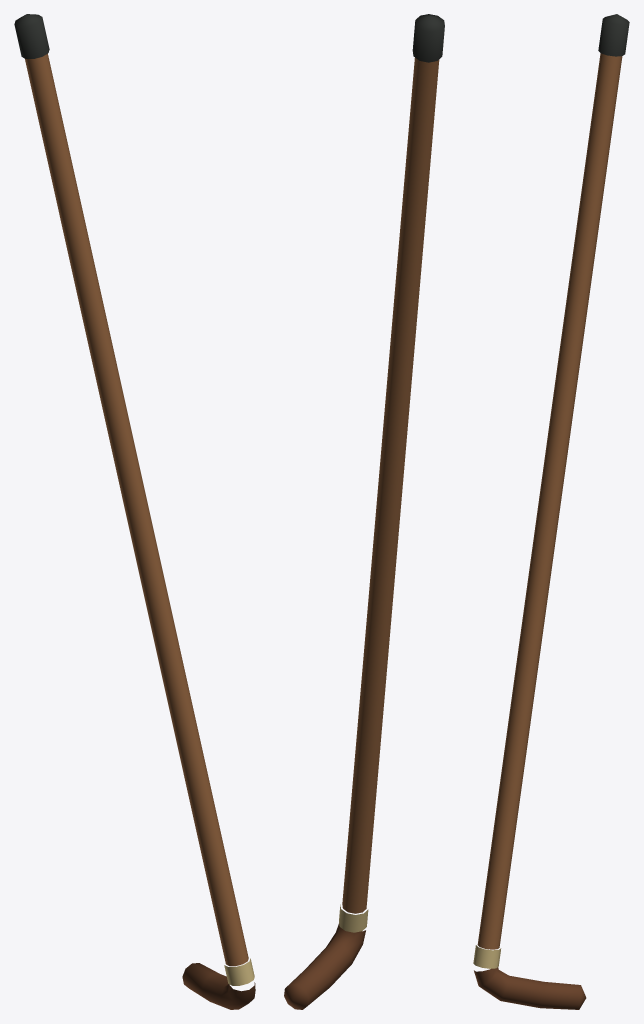
The model's file is old-cane-magrao.glb.
3 renders of one model, left to right at view 1: azimuth 30°, elevation 25°; view 2: azimuth 150°, elevation 25°; view 3: azimuth 270°, elevation 25°, orthographic. The views are drawn at different scales.
Parts seen in each view (by area): view 1: Acc_Male_Hand_Cane; view 2: Acc_Male_Hand_Cane; view 3: Acc_Male_Hand_Cane.
Part boxes in pixels (box(x1,y1,x2,y2)): Acc_Male_Hand_Cane: box(14, 14, 255, 1009); Acc_Male_Hand_Cane: box(284, 14, 444, 1009); Acc_Male_Hand_Cane: box(473, 14, 629, 1009).
Size of the model in its own units: 17.9 by 99.32 by 15.16.
